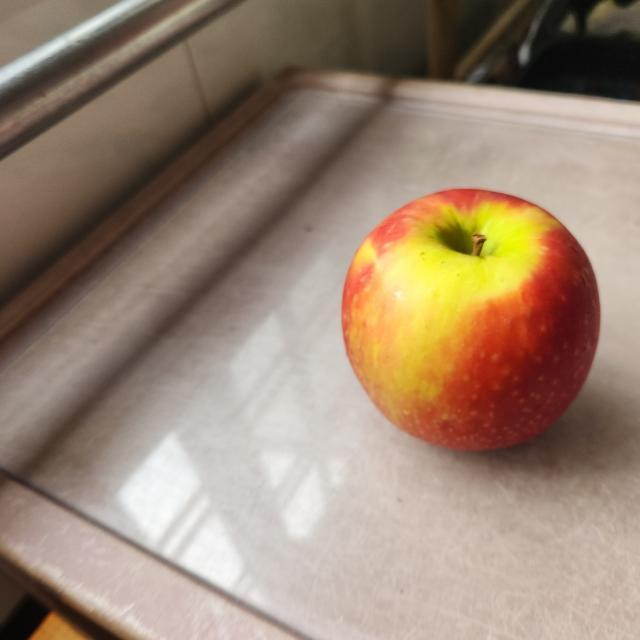apple: (338, 178, 606, 462)
